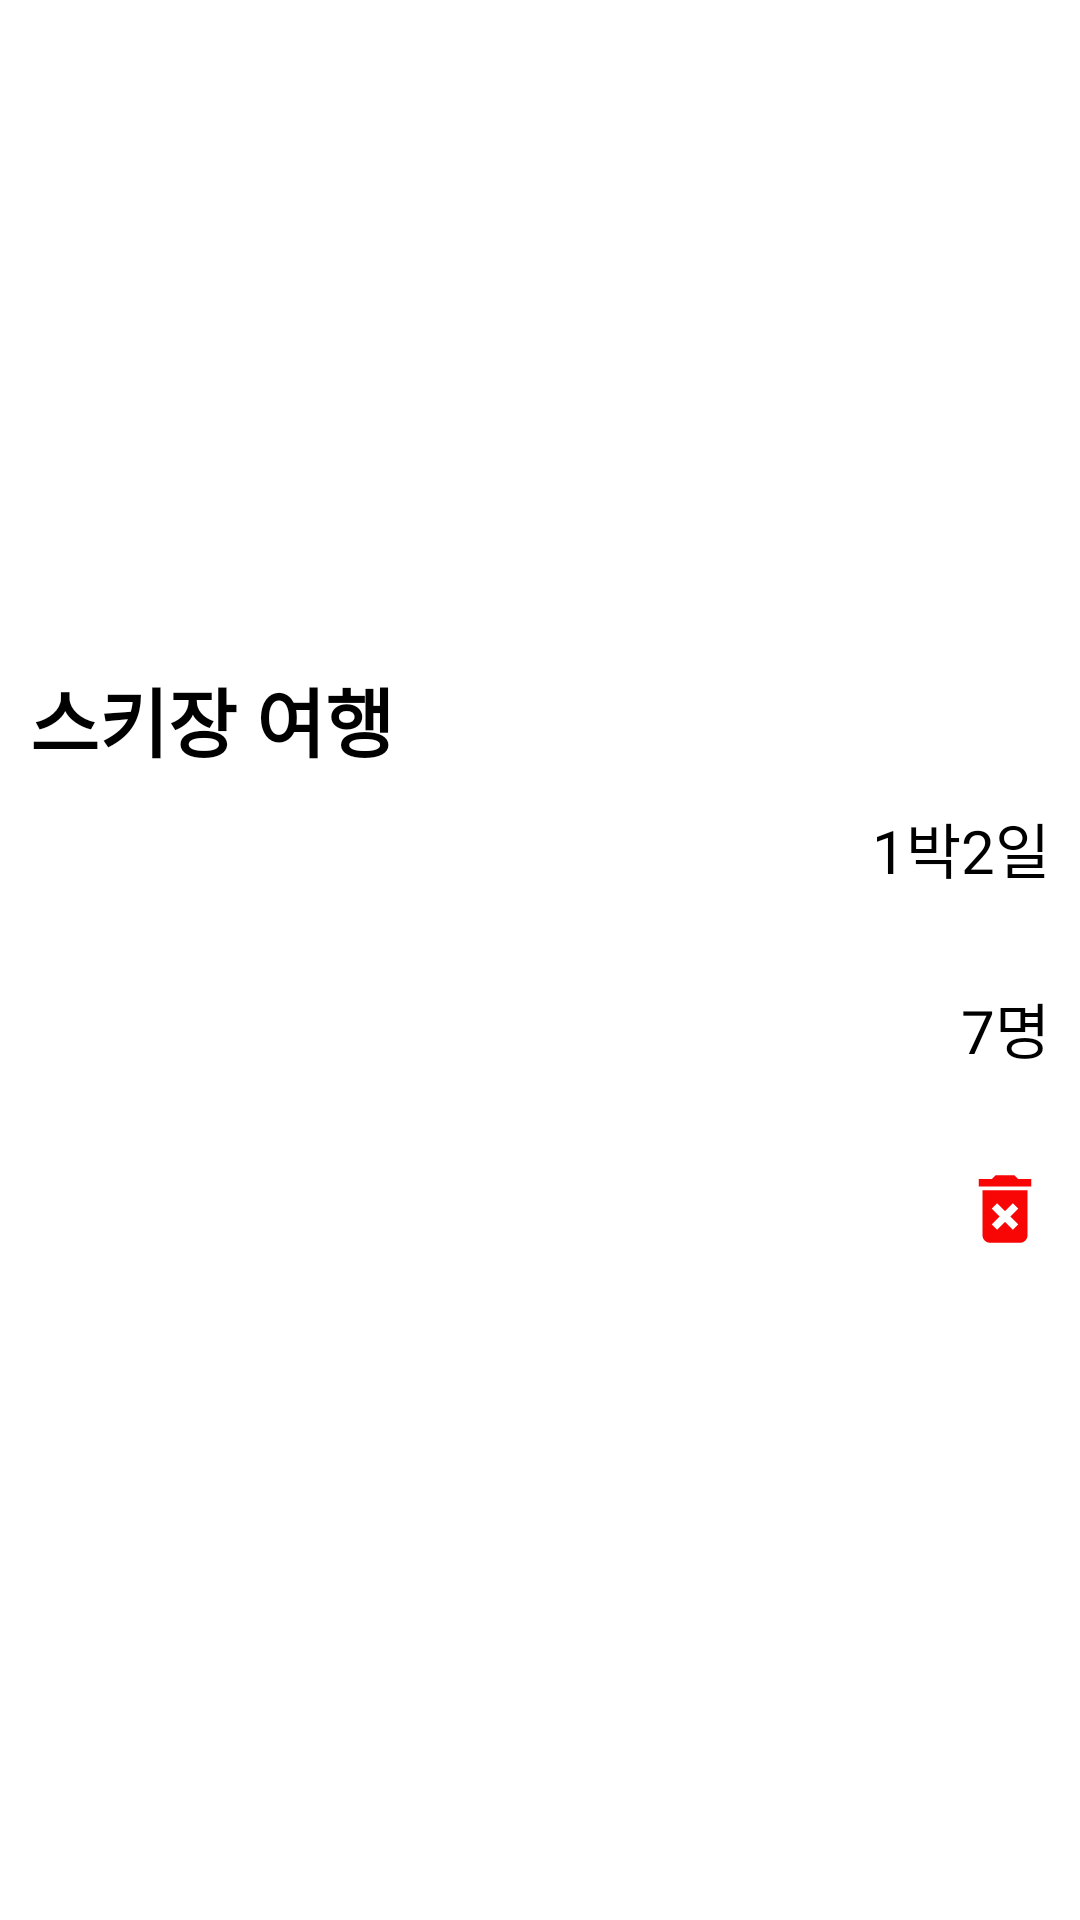

Icons on this 1080x1920 Android screen, each with the point to tap as point (x, y):
delete forever: point (1005, 1209)
